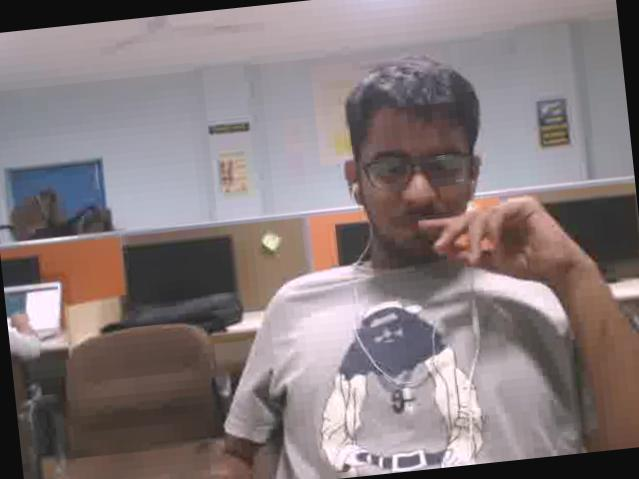bingung: (349, 98, 480, 255)
